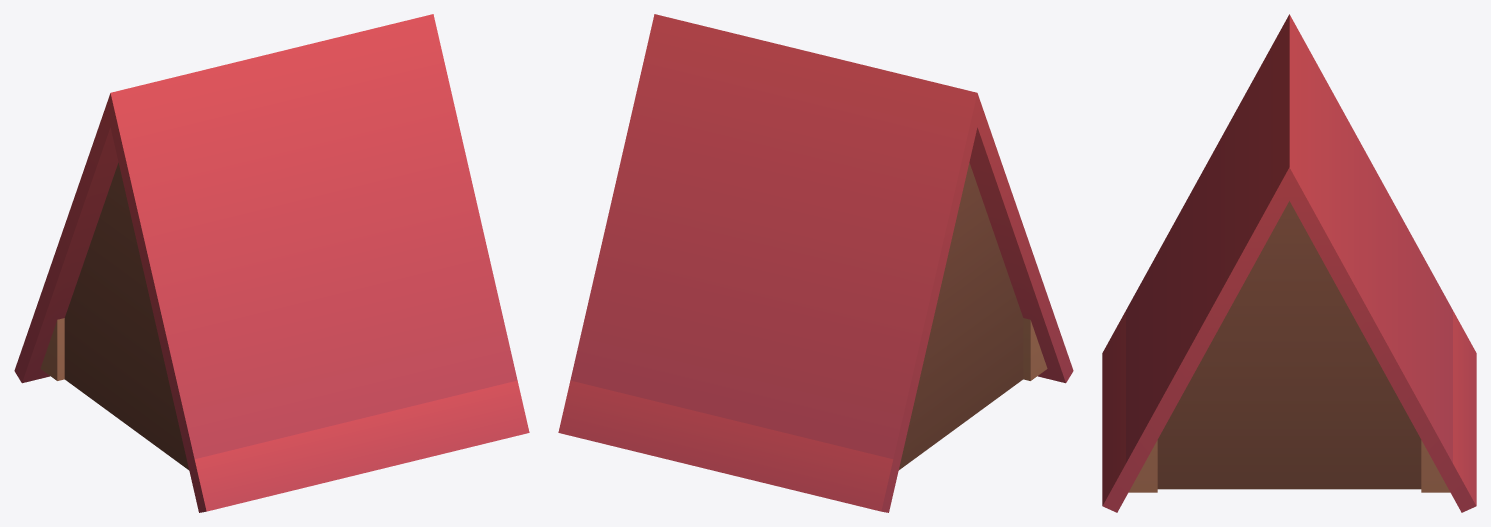
File: roof-high-gable.glb
3 views of the same model, side by side, from view 1: azimuth 30°, elevation 25°; view 2: azimuth 150°, elevation 25°; view 3: azimuth 270°, elevation 25° (orthographic). The views are drawn at different scales.
Visible parts, largest first — view 1: roof-high-gable; view 2: roof-high-gable; view 3: roof-high-gable.
Part boxes in pixels (x1,y1,x2,y2): roof-high-gable: (14, 14, 529, 512); roof-high-gable: (558, 14, 1073, 512); roof-high-gable: (1102, 14, 1476, 512).
Size of the model in its own units: 1.1 by 1.16 by 1.13.
1 material, 1 textured.
